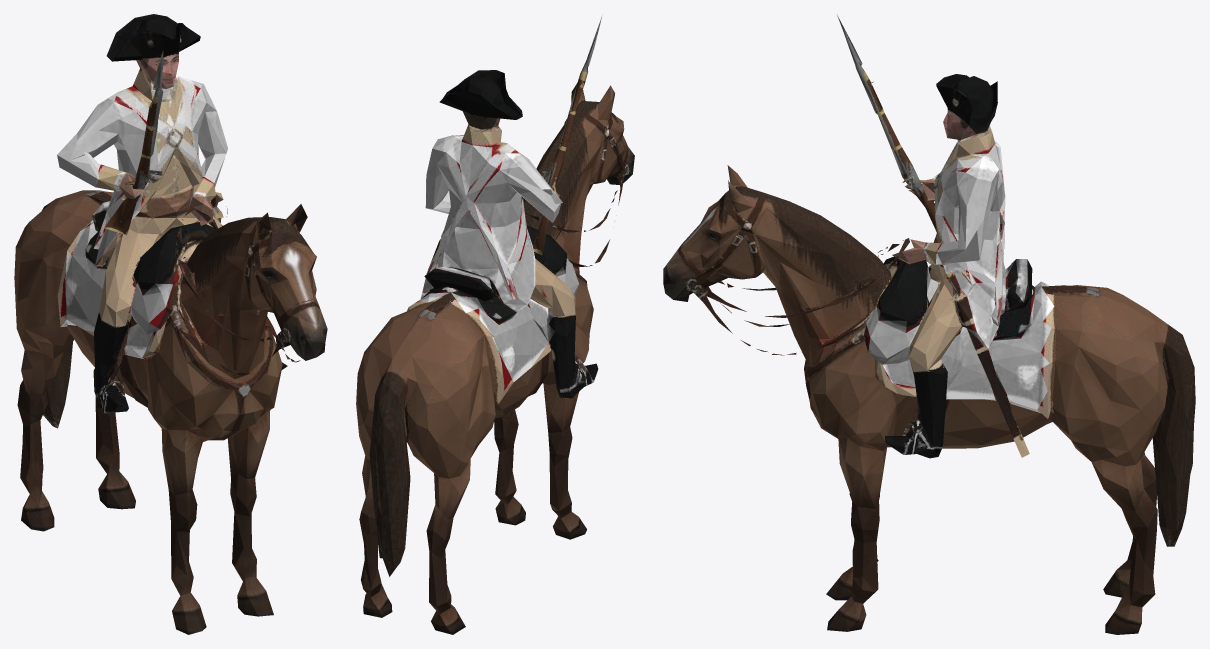
File: dragoon.glb
3 renders of one model, left to right at view 1: azimuth 30°, elevation 25°; view 2: azimuth 150°, elevation 25°; view 3: azimuth 270°, elevation 25°, orthographic. The views are drawn at different scales.
Visible parts, largest first — view 1: dragoon; view 2: dragoon; view 3: dragoon.
Part boxes in pixels (left/top/right/bottom): dragoon: left=14, top=14, right=327, bottom=634; dragoon: left=356, top=17, right=634, bottom=634; dragoon: left=663, top=15, right=1195, bottom=634.
Bounding box in the file's own units: 0.8473 × 2.67 × 2.27.
Materials: 3 (3 with a texture image).
